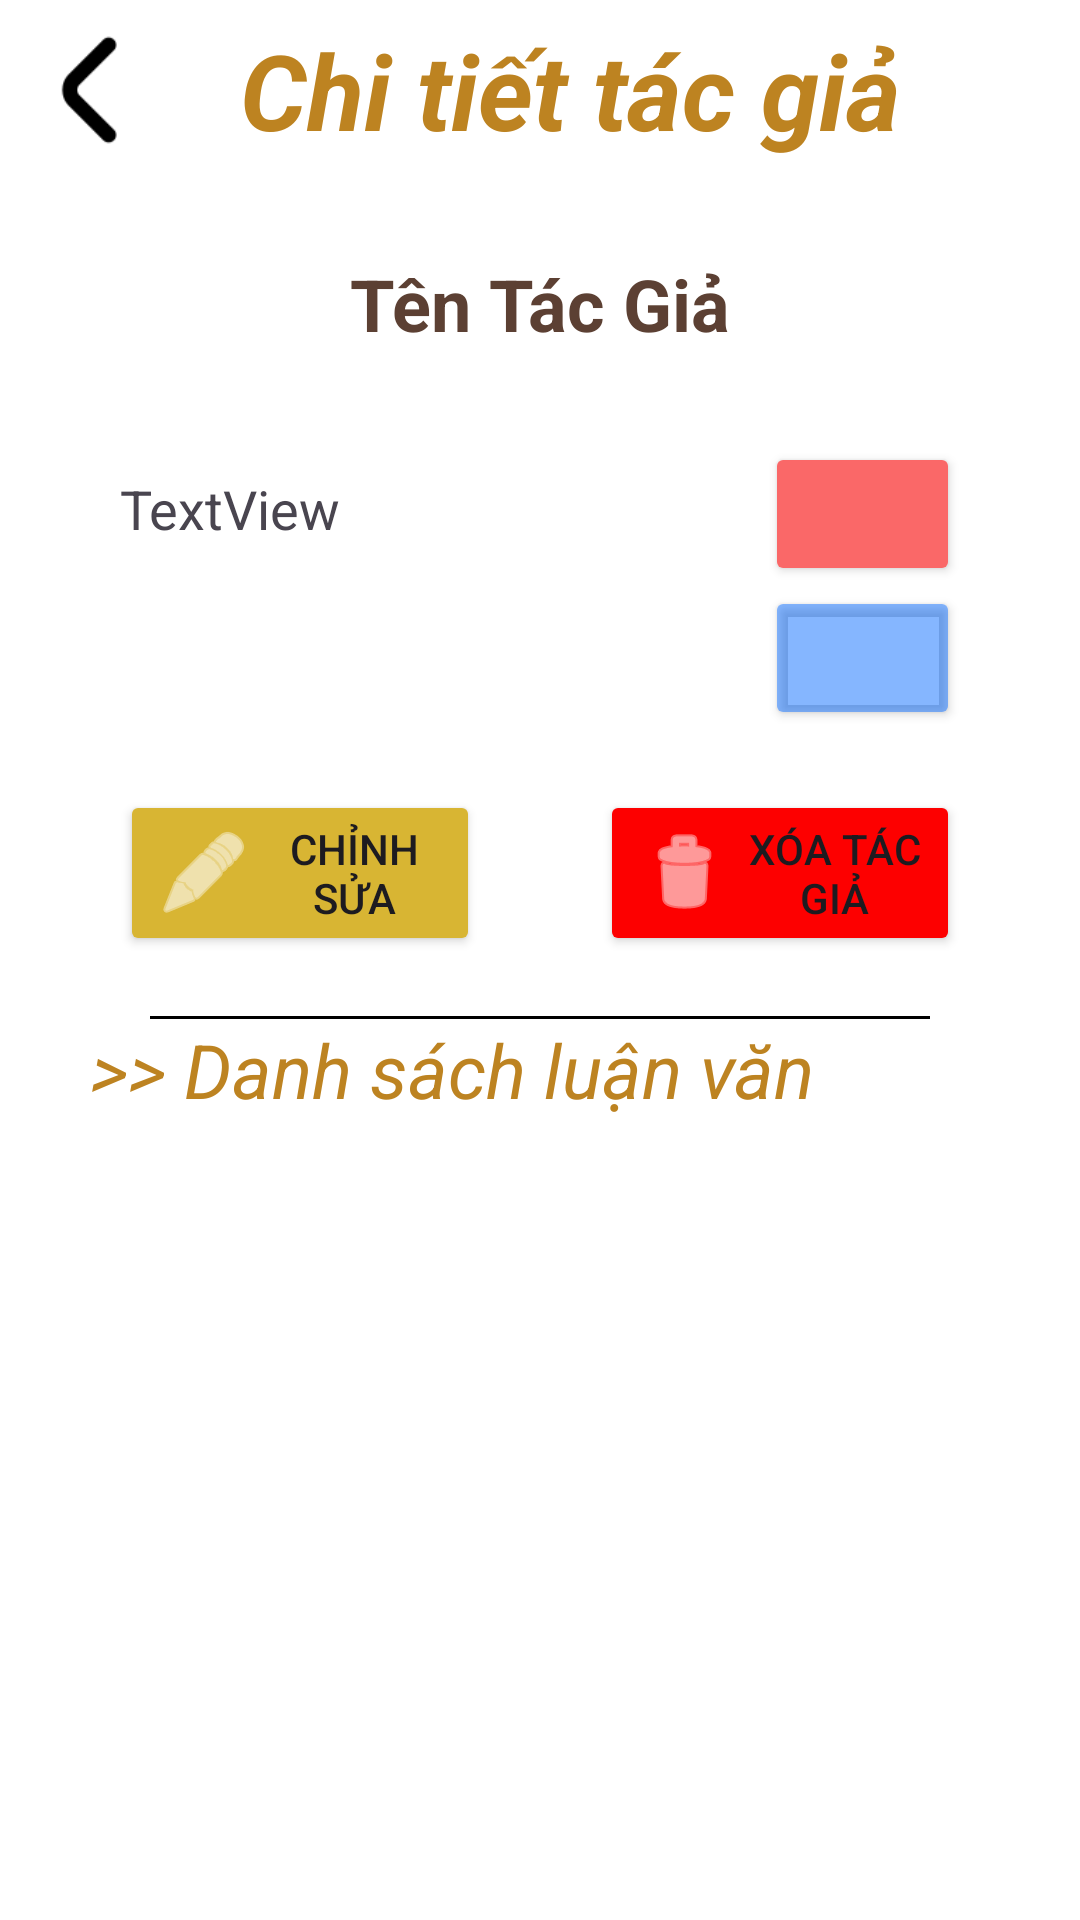

Icons on this 1080 x 1920 Android screen, each with the point to tap as point (x, y):
angle left: point (89, 90)
